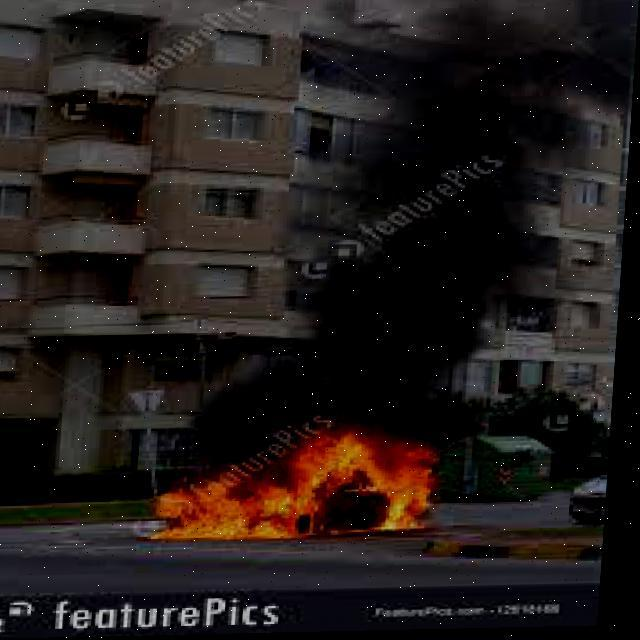Fire: (147, 408, 467, 546)
